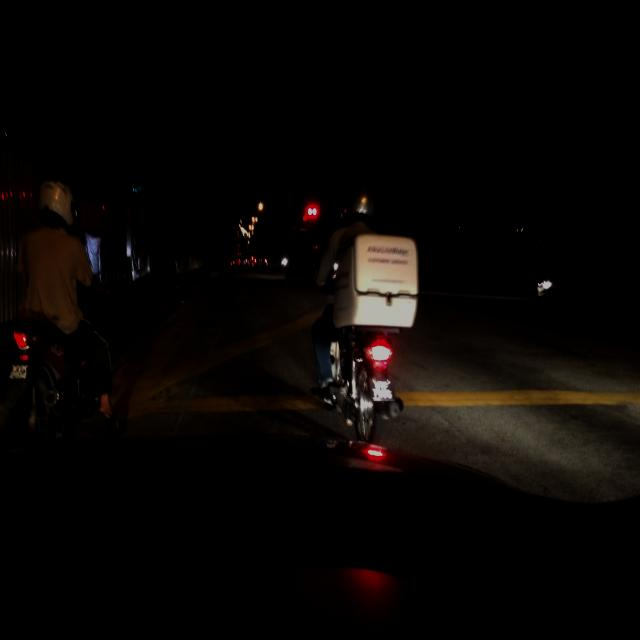Motorbike: (3, 178, 120, 448), (314, 190, 421, 447)
